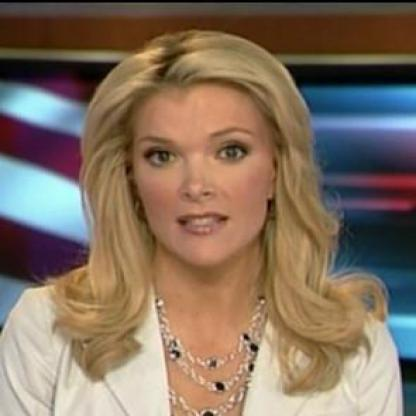long-hair: (66, 270, 341, 314)
